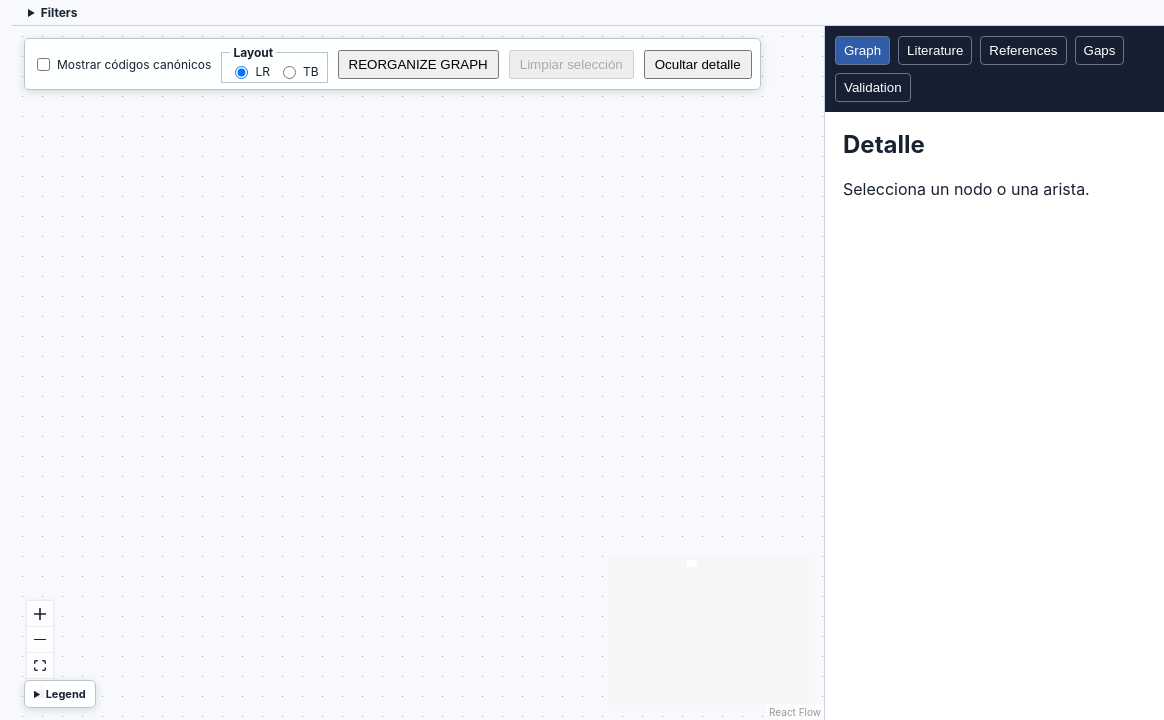
Test case: GraphRenderer canonical simulator integration › reports validation status REVIEW_REQUIRED literally without recalculation
What coordinates should you click on to do the following:
click the button "Validation"
I would click on:
 (873, 88)
Its box is [835,73,911,102].
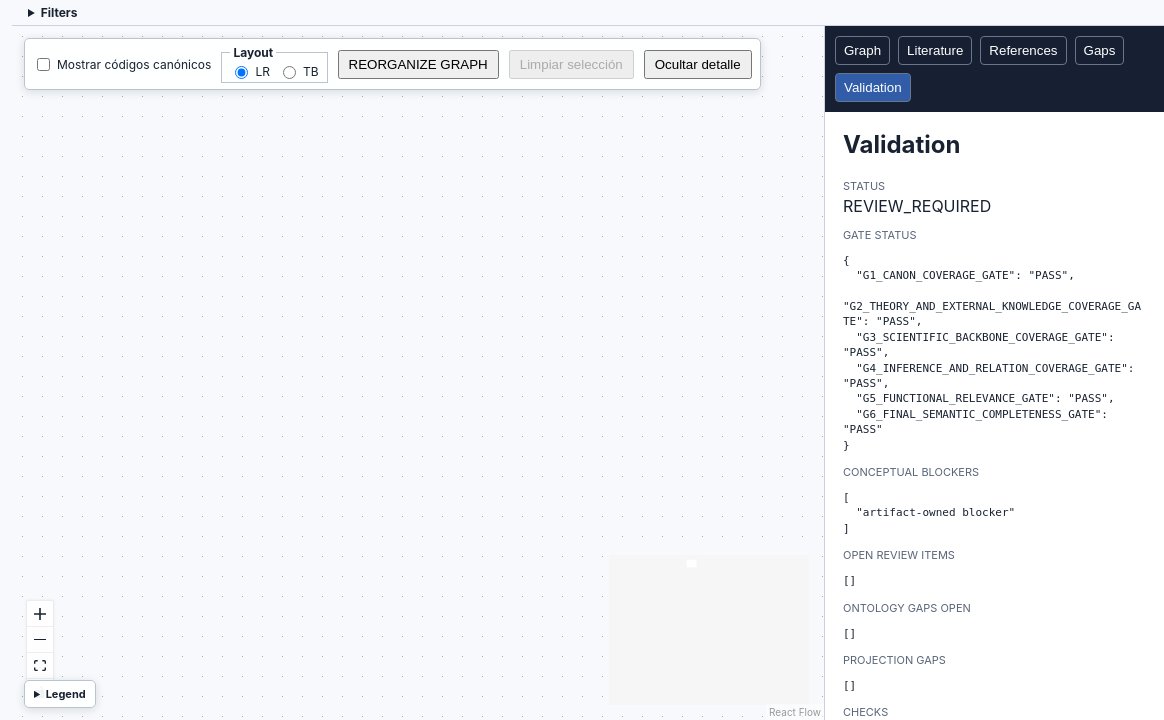
Now the text "REVIEW_REQUIRED" is shown, box [843,196,991,216]
Now the text "\"G1_CANON_COVERAGE_GATE\": \"PASS\"" is shown, box [843,254,1141,452]
Now the text "[ \"artifact-owned blocker\" ]" is shown, box [843,491,1015,535]
